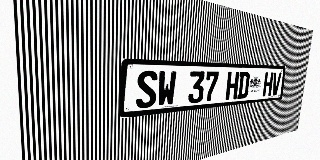3: (188, 71, 205, 104)
7: (203, 71, 219, 102)
D: (237, 72, 250, 99)
H: (225, 72, 239, 100), (262, 72, 274, 96)
S: (136, 70, 158, 109)
V: (271, 72, 281, 96)
W: (157, 71, 177, 107)
